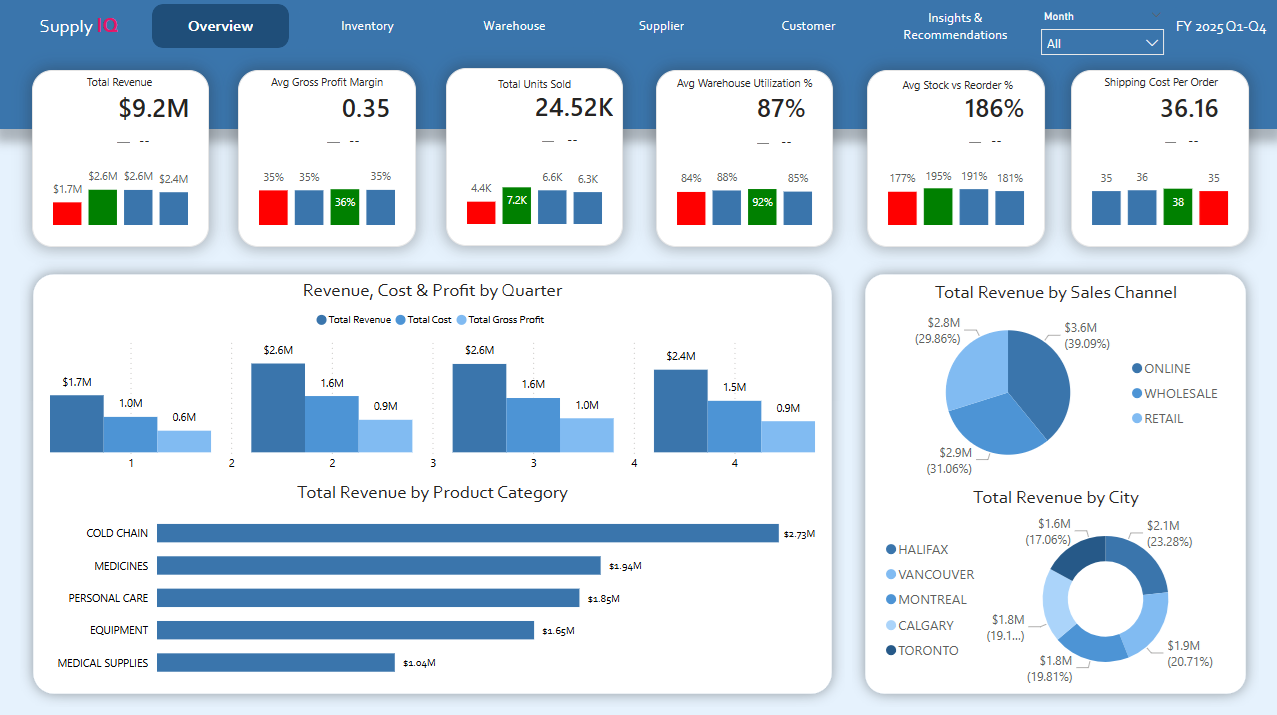

Layout of this report page (visuals, bound fields, positions):
{"tool":"powerbi","page":{"name":"Overview","canvas":[1280,720],"ordinal":0},"visuals":[{"type":"group","id":"g1","title":"Group 9","box":[0,0,1279.7,130.7],"z":0},{"type":"group","id":"g2","title":"Group 1","box":[29.7,57,208.6,192.3],"z":0,"group":"g3"},{"type":"columnChart","title":" ","fields":{"Category":["DIM_DATE.QUARTER"],"Y":["SALES._6 Total Units Sold"]},"box":[446.4,71,176.9,178],"z":0,"group":"g7"},{"type":"group","id":"g3","title":"Group 8","box":[29.7,56.1,1250.3,193.5],"z":1000},{"type":"group","id":"g4","title":"Group 2","box":[1071.9,57.5,208.2,191.7],"z":1000,"group":"g3"},{"type":"columnChart","title":" ","fields":{"Y":["SALES._Avg Gross Profit Margin"],"Category":["DIM_DATE.QUARTER"]},"box":[238.2,72,177.5,177.5],"z":1000,"group":"g5"},{"type":"columnChart","title":" ","fields":{"Y":["SALES._3 Avg Warehouse Utilization %"],"Category":["DIM_DATE.QUARTER"]},"box":[656.2,72.6,177,177],"z":1500,"group":"g8"},{"type":"pageNavigator","box":[153,6,874,44],"z":2000,"group":"g10"},{"type":"group","id":"g5","title":"Group 3","box":[238.2,69.3,210,179.9],"z":2000,"group":"g3"},{"type":"columnChart","title":" ","fields":{"Category":["DIM_DATE.QUARTER"],"Y":["SALES._Total Revenue"]},"box":[32.5,71.8,177.5,177.5],"z":2000,"group":"g2"},{"type":"shape","box":[21.1,263.3,824.4,445.6],"z":2000},{"type":"textbox","box":[12,9,136,41],"z":3000,"group":"g10"},{"type":"group","id":"g6","title":"Group 5","box":[867.3,56.1,207.1,193.2],"z":3000,"group":"g3"},{"type":"columnChart","title":" ","fields":{"Y":["SALES._1Shipping Cost per Unit"],"Category":["DIM_DATE.QUARTER"]},"box":[1072,72.2,177.5,177.5],"z":3000,"group":"g4"},{"type":"clusteredColumnChart","title":"Revenue, Cost & Profit by Quarter","fields":{"Category":["DIM_DATE.QUARTER"],"Y":["SALES._Total Revenue","SALES._Total Cost","SALES._Total Gross Profit"]},"box":[51.1,280,764.4,197.8],"z":3000},{"type":"shape","box":[0,0,1279.7,130.7],"z":3500,"group":"g1"},{"type":"shape","box":[1170.4,9.1,103.9,34],"z":4000,"group":"g10"},{"type":"group","id":"g7","title":"Group 6","box":[446.4,56.6,207.2,192.6],"z":4000,"group":"g3"},{"type":"group","id":"g8","title":"Group 4","box":[656.2,70.3,198.9,179.3],"z":4000,"group":"g9"},{"type":"clusteredBarChart","title":"Total Revenue by Product Category","fields":{"Category":["SALES.PR_CATEGORY"],"Y":["SALES._Total Revenue"]},"box":[51.1,482.2,764.4,205.6],"z":4000},{"type":"cardVisual","fields":{"Data":["SALES._3 Avg Warehouse Utilization %"]},"box":[728.5,57.5,147.8,99.9],"z":4500,"group":"g9"},{"type":"textbox","box":[1170,14,104,34],"z":5000,"group":"g10"},{"type":"group","id":"g9","title":"Group 7","box":[656.2,57.5,220.1,192.1],"z":5000,"group":"g3"},{"type":"columnChart","title":" ","fields":{"Category":["DIM_DATE.QUARTER"],"Y":["SALES._5 Avg Stock vs Reorder %"]},"box":[867.3,71.8,177.5,177.5],"z":5000,"group":"g6"},{"type":"shape","box":[853.3,263.3,406.7,445.6],"z":5000},{"type":"group","id":"g10","title":"Group 1","box":[12,6,1262.3,52],"z":5002,"group":"g1"},{"type":"slicer","fields":{"Values":["DIM_DATE.MONTH_NAME"]},"box":[1037,12,133,46],"z":6000,"group":"g10"},{"type":"cardVisual","fields":{"Data":["SALES._Avg Gross Profit Margin"]},"box":[312.9,71.6,132.9,71.4],"z":6000,"group":"g5"},{"type":"pieChart","title":"Total Revenue by Sales Channel","fields":{"Category":["SALES.CUSTOMER_SEGMENT"],"Y":["SALES._Total Revenue"]},"box":[881.1,282.2,352.2,202.2],"z":6000},{"type":"cardVisual","fields":{"Data":["SALES._Total Revenue"]},"box":[89.5,57,148.8,100.2],"z":7000,"group":"g2"},{"type":"donutChart","title":"Total Revenue by City","fields":{"Category":["SALES.CUSTOMER_CITY"],"Y":["SALES._Total Revenue"]},"box":[881.1,486.7,352.2,205.6],"z":7000},{"type":"cardVisual","fields":{"Data":["SALES._1Shipping Cost per Unit"]},"box":[1132,57.5,147.5,100],"z":8000,"group":"g4"},{"type":"cardVisual","fields":{"Data":["SALES._5 Avg Stock vs Reorder %"]},"box":[936,56.1,138.4,102],"z":10000,"group":"g6"},{"type":"cardVisual","fields":{"Data":["SALES._Total Units Sold"]},"box":[506,56.6,147.5,100],"z":11000,"group":"g7"},{"type":"textbox","box":[238.7,69.3,178,43.9],"z":12000,"group":"g5"},{"type":"textbox","box":[29.7,69.1,181.3,43.9],"z":13000,"group":"g2"},{"type":"textbox","box":[1071.9,69.5,180.2,43.9],"z":14000,"group":"g4"},{"type":"textbox","box":[656.7,70.3,176.9,42.7],"z":15000,"group":"g8"},{"type":"textbox","box":[869.9,71.8,175.9,38.5],"z":16000,"group":"g6"},{"type":"cardVisual","fields":{"Data":["SALES._2 QOQ Avg Gross Profit Margin"]},"box":[319.8,114.8,117.8,53.9],"z":17000,"group":"g5"},{"type":"cardVisual","fields":{"Data":["SALES._MOM Total Revenue"]},"box":[110.5,114.6,121.4,53.9],"z":18000,"group":"g2"},{"type":"cardVisual","fields":{"Data":["SALES._1 QOQ Avg Shipping Cost per Order"]},"box":[1160.3,115,99.5,53.9],"z":19000,"group":"g4"},{"type":"cardVisual","fields":{"Data":["SALES._3 QOQ Avg WH Utilization %"]},"box":[752.1,115.1,103,54.1],"z":20000,"group":"g8"},{"type":"cardVisual","fields":{"Data":["SALES._5 QOQ Avg Stock vs Reorder %"]},"box":[961.9,114.6,106.8,53.9],"z":21000,"group":"g6"},{"type":"textbox","box":[446.9,71.3,176.9,38.5],"z":22000,"group":"g7"},{"type":"cardVisual","fields":{"Data":["SALES._6 QOQ Total Units Sold"]},"box":[538,114,95.7,54.1],"z":23000,"group":"g7"},{"type":"cardVisual","fields":{"Data":["SALES.1️⃣ Arrow Indicator MeasureMoM Revenue Indicator"]},"box":[105.9,113.2,115.9,56.6],"z":24000,"group":"g2"},{"type":"cardVisual","fields":{"Data":["SALES._QOQ Arrow Indicator Shipping Cost"]},"box":[1153.9,113.6,105.9,56.6],"z":25000,"group":"g4"},{"type":"cardVisual","fields":{"Data":["SALES._2 QOQ Arrow Indicator Avg Profit Margin"]},"box":[315.3,113.4,133.3,56.6],"z":26000,"group":"g5"},{"type":"cardVisual","fields":{"Data":["SALES._3 QOQ Arrow Indicator Avg WH Utilization %"]},"box":[744.8,114,109.3,56.2],"z":27000,"group":"g8"},{"type":"cardVisual","fields":{"Data":["SALES._5 QOQ Arrow Indicator Avg Stock vs Reorder %"]},"box":[957.4,113.2,107.7,56.6],"z":28000,"group":"g6"},{"type":"cardVisual","fields":{"Data":["SALES._6 QOQ Arrow Indicator Total Units Sold"]},"box":[530.2,112.7,110.5,56.6],"z":29000,"group":"g7"}]}

Visuals, with their boxes in screenshot pixels (x1, y1, x2, y2), scaled from the page's 1280x720 canvas onto the 1277x715 screenshot:
"Group 9" group: <bbox>0, 0, 1276, 130</bbox>
"Group 1" group: <bbox>30, 57, 238, 248</bbox>
" " columnChart: <bbox>445, 71, 622, 247</bbox>
"Group 8" group: <bbox>30, 56, 1276, 248</bbox>
"Group 2" group: <bbox>1069, 57, 1276, 247</bbox>
" " columnChart: <bbox>238, 72, 415, 248</bbox>
" " columnChart: <bbox>655, 72, 831, 248</bbox>
pageNavigator: <bbox>153, 6, 1025, 50</bbox>
"Group 3" group: <bbox>238, 69, 447, 247</bbox>
" " columnChart: <bbox>32, 71, 210, 248</bbox>
shape: <bbox>21, 261, 844, 704</bbox>
textbox: <bbox>12, 9, 148, 50</bbox>
"Group 5" group: <bbox>865, 56, 1072, 248</bbox>
" " columnChart: <bbox>1069, 72, 1247, 248</bbox>
"Revenue, Cost & Profit by Quarter" clusteredColumnChart: <bbox>51, 278, 814, 474</bbox>
shape: <bbox>0, 0, 1276, 130</bbox>
shape: <bbox>1168, 9, 1271, 43</bbox>
"Group 6" group: <bbox>445, 56, 652, 247</bbox>
"Group 4" group: <bbox>655, 70, 853, 248</bbox>
"Total Revenue by Product Category" clusteredBarChart: <bbox>51, 479, 814, 683</bbox>
cardVisual - SALES._3 Avg Warehouse Utilization %: <bbox>727, 57, 874, 156</bbox>
textbox: <bbox>1167, 14, 1271, 48</bbox>
"Group 7" group: <bbox>655, 57, 874, 248</bbox>
" " columnChart: <bbox>865, 71, 1042, 248</bbox>
shape: <bbox>851, 261, 1257, 704</bbox>
"Group 1" group: <bbox>12, 6, 1271, 58</bbox>
slicer - DIM_DATE.MONTH_NAME: <bbox>1035, 12, 1167, 58</bbox>
cardVisual - SALES._Avg Gross Profit Margin: <bbox>312, 71, 445, 142</bbox>
"Total Revenue by Sales Channel" pieChart: <bbox>879, 280, 1230, 481</bbox>
cardVisual - SALES._Total Revenue: <bbox>89, 57, 238, 156</bbox>
"Total Revenue by City" donutChart: <bbox>879, 483, 1230, 687</bbox>
cardVisual - SALES._1Shipping Cost per Unit: <bbox>1129, 57, 1276, 156</bbox>
cardVisual - SALES._5 Avg Stock vs Reorder %: <bbox>934, 56, 1072, 157</bbox>
cardVisual - SALES._Total Units Sold: <bbox>505, 56, 652, 156</bbox>
textbox: <bbox>238, 69, 416, 112</bbox>
textbox: <bbox>30, 69, 211, 112</bbox>
textbox: <bbox>1069, 69, 1249, 113</bbox>
textbox: <bbox>655, 70, 832, 112</bbox>
textbox: <bbox>868, 71, 1043, 110</bbox>
cardVisual - SALES._2 QOQ Avg Gross Profit Margin: <bbox>319, 114, 437, 168</bbox>
cardVisual - SALES._MOM Total Revenue: <bbox>110, 114, 231, 167</bbox>
cardVisual - SALES._1 QOQ Avg Shipping Cost per Order: <bbox>1158, 114, 1257, 168</bbox>
cardVisual - SALES._3 QOQ Avg WH Utilization %: <bbox>750, 114, 853, 168</bbox>
cardVisual - SALES._5 QOQ Avg Stock vs Reorder %: <bbox>960, 114, 1066, 167</bbox>
textbox: <bbox>446, 71, 622, 109</bbox>
cardVisual - SALES._6 QOQ Total Units Sold: <bbox>537, 113, 632, 167</bbox>
cardVisual - SALES.1️⃣ Arrow Indicator MeasureMoM Revenue Indicator: <bbox>106, 112, 221, 169</bbox>
cardVisual - SALES._QOQ Arrow Indicator Shipping Cost: <bbox>1151, 113, 1257, 169</bbox>
cardVisual - SALES._2 QOQ Arrow Indicator Avg Profit Margin: <bbox>315, 113, 448, 169</bbox>
cardVisual - SALES._3 QOQ Arrow Indicator Avg WH Utilization %: <bbox>743, 113, 852, 169</bbox>
cardVisual - SALES._5 QOQ Arrow Indicator Avg Stock vs Reorder %: <bbox>955, 112, 1063, 169</bbox>
cardVisual - SALES._6 QOQ Arrow Indicator Total Units Sold: <bbox>529, 112, 639, 168</bbox>
